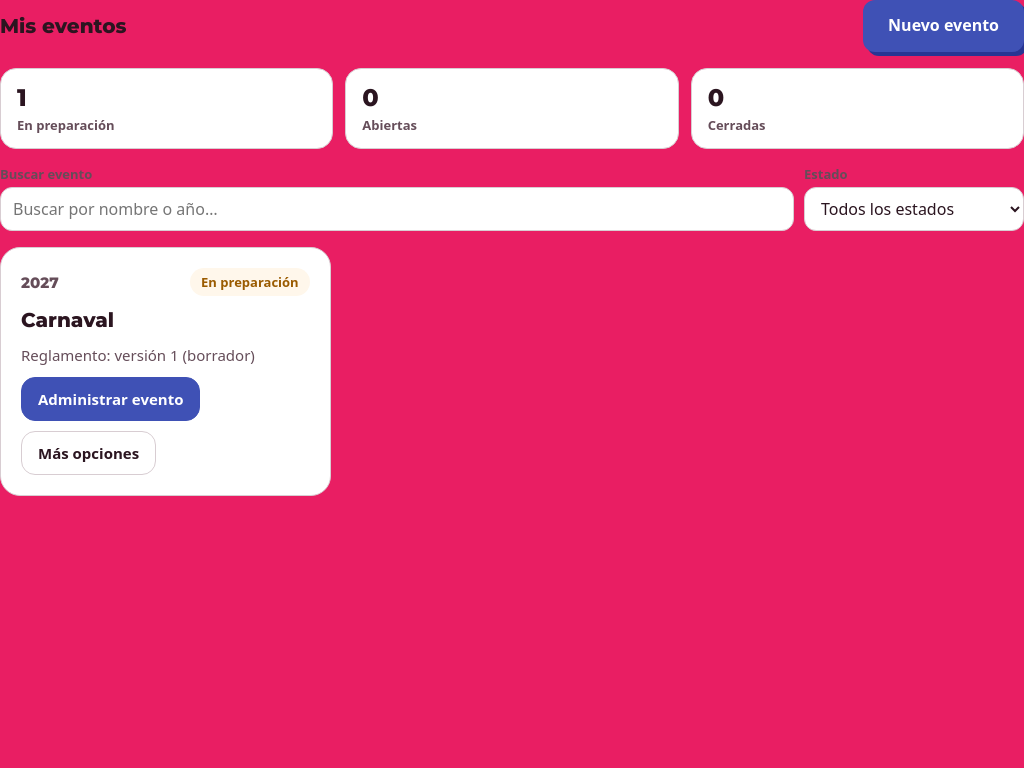
Scenario: Más opciones explica que retirar conserva los datos antes de confirmar
The width and height of the screenshot is (1024, 768).
Click the button with aria-label "Más opciones de Carnaval 2027".
click(89, 453)  # box [21, 431, 156, 475]
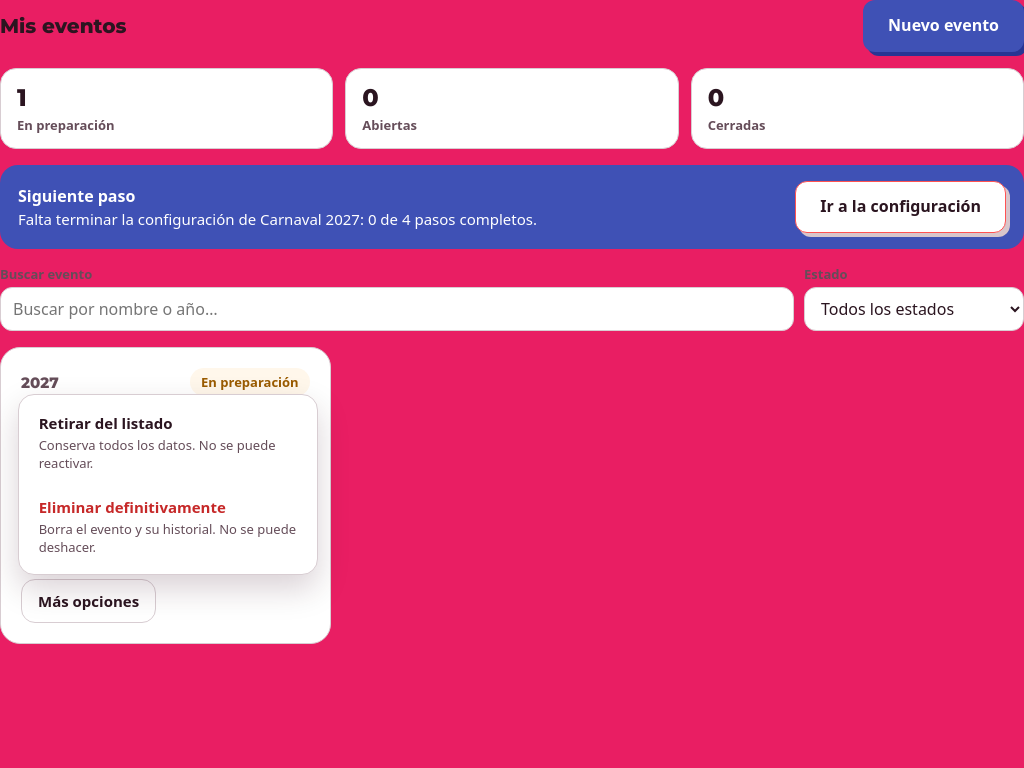
Now the text "Conserva todos los datos. No se puede reactivar." is shown, box [39, 436, 297, 473]
Now the text "Borra el evento y su historial. No se puede deshacer." is shown, box [39, 520, 297, 556]
Click the button with aria-label "Retirar del listado Carnaval 2027".
click(168, 443)  # box [27, 403, 309, 483]
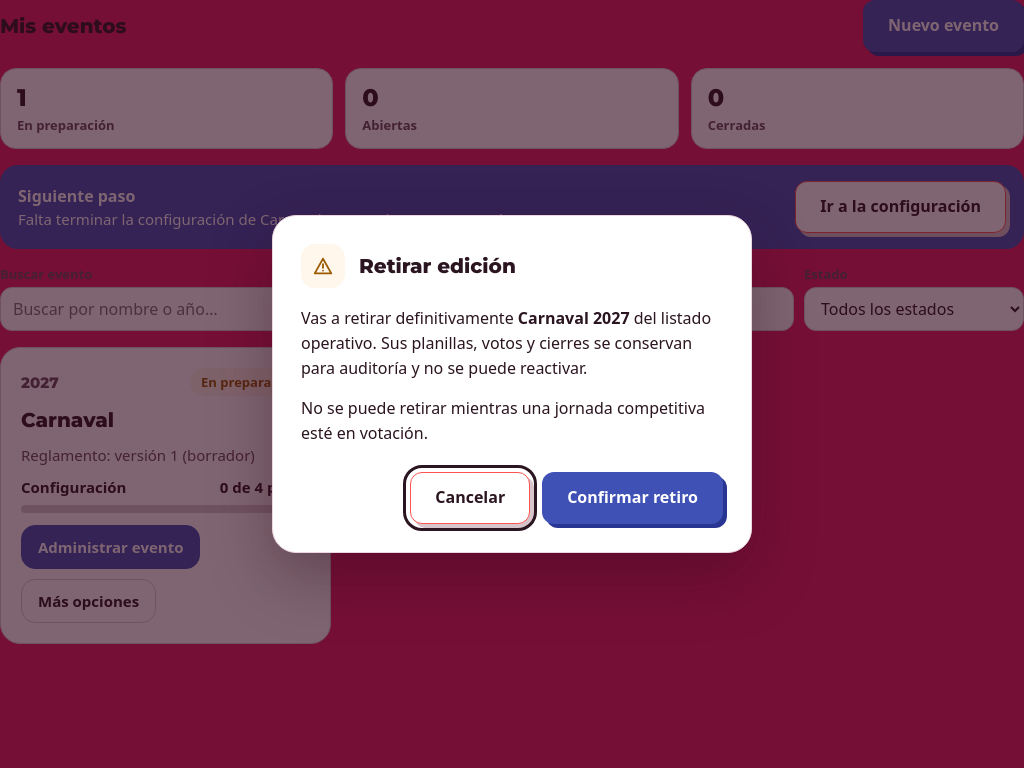
Now the dialog "Retirar edición" is shown, box [272, 215, 752, 553]
